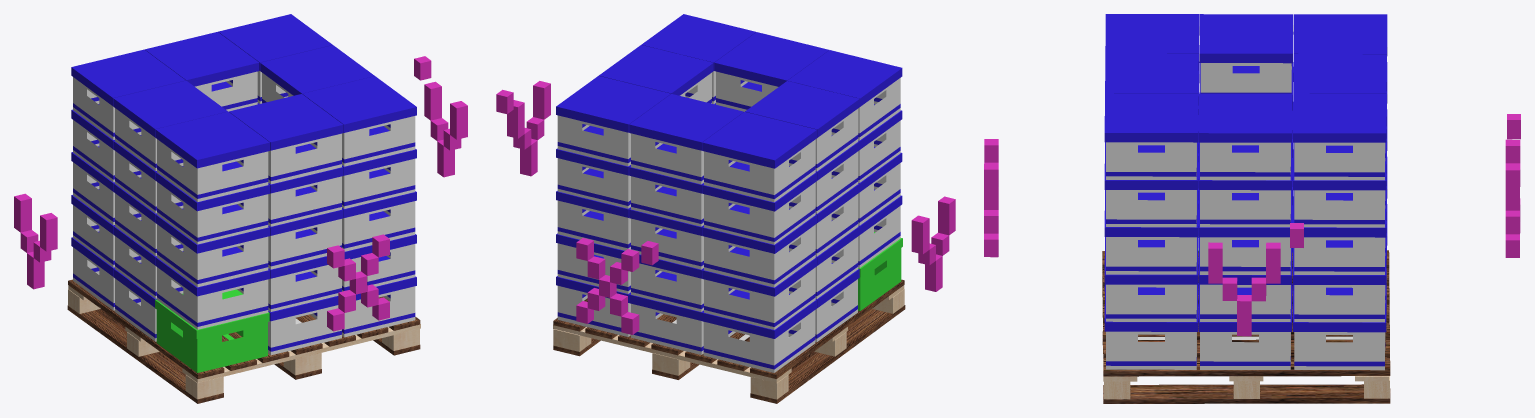
3 renders of one model, left to right at view 1: azimuth 30°, elevation 25°; view 2: azimuth 150°, elevation 25°; view 3: azimuth 270°, elevation 25°, orthographic. The views are drawn at different scales.
Visible parts, largest first — view 1: CajaVerde, Cube.031_1, Cube.026_1, Cube.033_1, Cube.032_1, Cube.029_1, Cube.030_1, Cube.027_1, Cube.020_0, Cube.031_0, Cube.012_0, Cube.039_0 (+53 smaller); view 2: Cube.029_1, Cube.028_1, Cube.032_1, Cube.033_1, Cube.030_1, Cube.031_1, Cube.027_1, Cube.007_0, Cube.029_0, Cube.022_0, Cube.014_0, Cube.037_0 (+53 smaller); view 3: Cube.027_1, Cube.026_1, Cube.028_1, Cube.030_1, Cube055, Cube.033_1, Cube.029_1, Cube.031_1, Cube.032_1, Cube.028_0, Cube.027_0, Cube.003_0 (+33 smaller).
Part boxes in pixels (left/top/right/bottom): CajaVerde: left=155, top=289, right=269, bottom=372; Cube.031_1: left=155, top=111, right=269, bottom=198; Cube.026_1: left=302, top=76, right=416, bottom=163; Cube.033_1: left=229, top=94, right=343, bottom=180; Cube.032_1: left=144, top=32, right=259, bottom=109; Cube.029_1: left=71, top=49, right=185, bottom=136; Cube.030_1: left=113, top=80, right=227, bottom=167; Cube.027_1: left=260, top=45, right=374, bottom=102; Cube.020_0: left=157, top=224, right=268, bottom=287; Cube.031_0: left=157, top=139, right=268, bottom=201; Cube.012_0: left=157, top=267, right=268, bottom=329; Cube.039_0: left=157, top=182, right=268, bottom=244; Cube.029_1: left=702, top=112, right=817, bottom=199; Cube.028_1: left=556, top=76, right=670, bottom=162; Cube.032_1: left=629, top=94, right=743, bottom=181; Cube.033_1: left=714, top=32, right=828, bottom=109; Cube.030_1: left=745, top=81, right=859, bottom=168; Cube.031_1: left=787, top=50, right=902, bottom=137; Cube.027_1: left=599, top=45, right=713, bottom=103; Cube.007_0: left=703, top=310, right=815, bottom=372; Cube.029_0: left=704, top=139, right=815, bottom=202; Cube.022_0: left=704, top=224, right=815, bottom=287; Cube.014_0: left=704, top=267, right=815, bottom=329; Cube.037_0: left=704, top=182, right=815, bottom=244; Cube.027_1: left=1198, top=93, right=1292, bottom=176; Cube.026_1: left=1104, top=93, right=1198, bottom=176; Cube.028_1: left=1293, top=93, right=1386, bottom=176; Cube.030_1: left=1199, top=14, right=1293, bottom=93; Cube055: left=1103, top=384, right=1390, bottom=403; Cube.033_1: left=1105, top=53, right=1198, bottom=93; Cube.029_1: left=1293, top=14, right=1387, bottom=55; Cube.031_1: left=1105, top=14, right=1199, bottom=53; Cube.032_1: left=1293, top=54, right=1386, bottom=93; Cube.028_0: left=1294, top=142, right=1385, bottom=180; Cube.027_0: left=1200, top=142, right=1290, bottom=180; Cube.003_0: left=1294, top=332, right=1385, bottom=370.
Size of the model in its own units: 4.22 by 2.33 by 4.22.
Materials: 82 (2 with a texture image).
